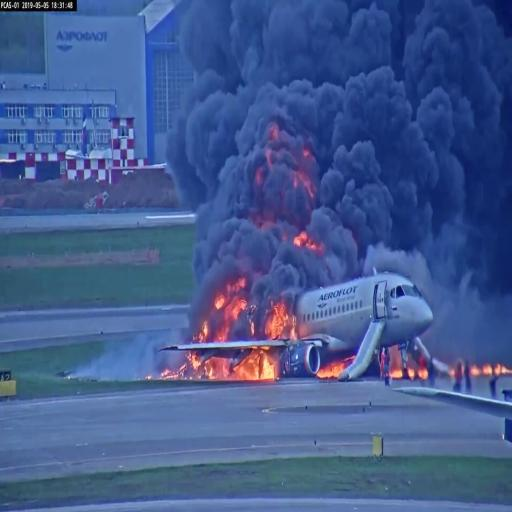fire: (172, 352, 276, 384)
smoke: (232, 63, 441, 281)
